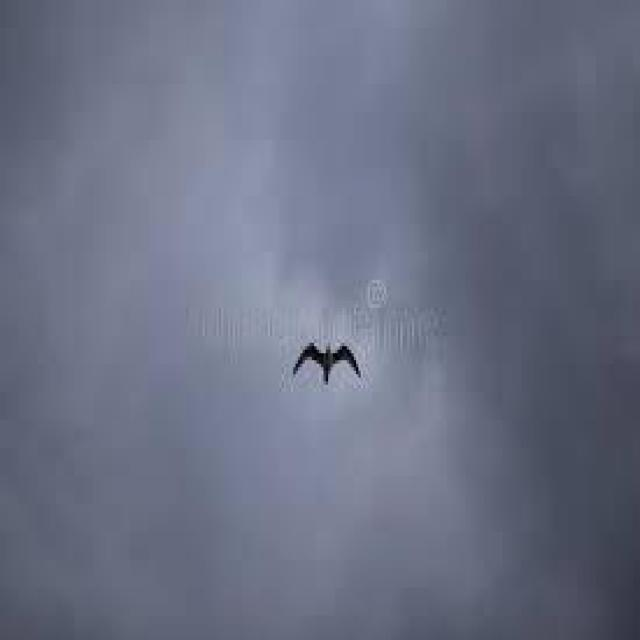bird: (294, 339, 366, 392)
